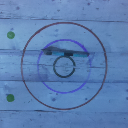Axe Tip: (42, 50, 54, 52)
